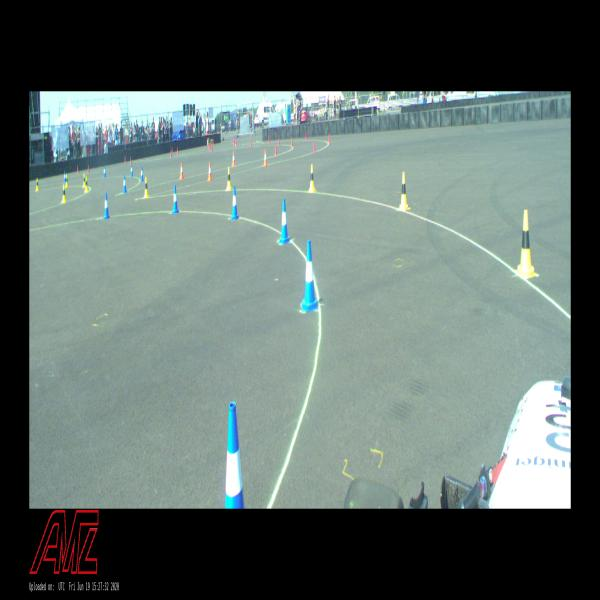blue_cone: (225, 402, 245, 508), (302, 240, 318, 311), (279, 199, 290, 243), (230, 186, 240, 220), (171, 185, 180, 214), (103, 193, 110, 219), (123, 176, 127, 192), (140, 167, 144, 181), (130, 164, 133, 177), (104, 166, 106, 177), (64, 172, 66, 182)
orange_cone: (179, 162, 184, 179), (263, 150, 268, 166), (231, 152, 236, 167), (208, 162, 212, 180)
yellow_cone: (516, 210, 535, 278), (400, 173, 410, 210), (308, 164, 317, 192), (226, 167, 232, 189), (144, 177, 149, 197), (62, 184, 66, 203), (84, 177, 88, 192), (35, 178, 39, 191), (83, 174, 85, 187), (66, 175, 68, 187)
